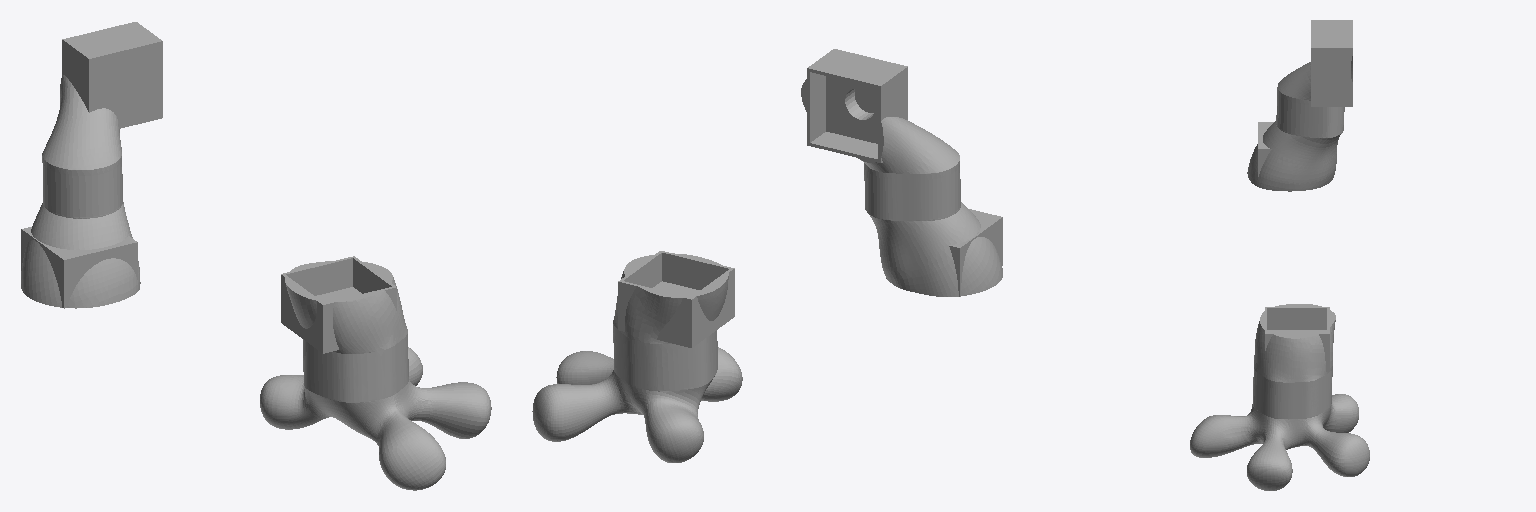
The robot description file, URDF, robot "FrogBot1_top-FrogBot1-x-6_bottom-FrogBot1-x-6":
<?xml version="1.0" ?>
<robot name="FrogBot1_top-FrogBot1-x-6_bottom-FrogBot1-x-6">

<material name="pla_5_percent_infill">
  <color rgba="0.700 0.700 0.700 1.000"/>
</material>

<link name="base_link">
  <inertial>
    <origin xyz="0 0 0" rpy="0 0 0"/>
    <mass value="1.4103143072721238"/>
    <inertia ixx="0.004671865419262029" iyy="0.011029843286332431" izz="0.011972094032648914" ixy="0.00015185420958179445" iyz="8.583160306759328e-05" ixz="-0.001213277085335509"/>
  </inertial>
  <visual>
    <origin xyz="0 0 0" rpy="0 0 0"/>
    <geometry>
      <mesh filename="simple_meshes/base_link.stl" scale="0.001 0.001 0.001"/>
    </geometry>
    <material name="pla_5_percent_infill"/>
  </visual>
  <collision>
    <origin xyz="0 0 0" rpy="0 0 0"/>
    <geometry>
      <mesh filename="simple_meshes/base_link.stl" scale="0.001 0.001 0.001"/>
    </geometry>
  </collision>
</link>

<link name="body_1_0_1">
  <inertial>
    <origin xyz="-0.045735 -0.109621 -0.00462" rpy="0 0 0"/>
    <mass value="0.042742572720428126"/>
    <inertia ixx="4.8710943974901704e-05" iyy="5.044943592992317e-05" izz="1.5113327222513167e-05" ixy="-4.565019534397206e-07" iyz="3.393130632926215e-06" ixz="6.908643124618741e-07"/>
  </inertial>
  <visual>
    <origin xyz="-0.045735 -0.109621 -0.00462" rpy="0 0 0"/>
    <geometry>
      <mesh filename="simple_meshes/body_1_0_1.stl" scale="0.001 0.001 0.001"/>
    </geometry>
    <material name="pla_5_percent_infill"/>
  </visual>
  <collision>
    <origin xyz="-0.045735 -0.109621 -0.00462" rpy="0 0 0"/>
    <geometry>
      <mesh filename="simple_meshes/body_1_0_1.stl" scale="0.001 0.001 0.001"/>
    </geometry>
  </collision>
</link>

<link name="body_1_1_1">
  <inertial>
    <origin xyz="0.086489 -0.109621 -0.018802" rpy="0 0 0"/>
    <mass value="0.07791456159574267"/>
    <inertia ixx="9.462274355153972e-05" iyy="0.0001024098774370433" izz="4.409219128689943e-05" ixy="6.168907758929412e-06" iyz="1.469876848607843e-05" ixz="-2.2209793211704033e-05"/>
  </inertial>
  <visual>
    <origin xyz="0.086489 -0.109621 -0.018802" rpy="0 0 0"/>
    <geometry>
      <mesh filename="simple_meshes/body_1_1_1.stl" scale="0.001 0.001 0.001"/>
    </geometry>
    <material name="pla_5_percent_infill"/>
  </visual>
  <collision>
    <origin xyz="0.086489 -0.109621 -0.018802" rpy="0 0 0"/>
    <geometry>
      <mesh filename="simple_meshes/body_1_1_1.stl" scale="0.001 0.001 0.001"/>
    </geometry>
  </collision>
</link>

<link name="body_1_2_1">
  <inertial>
    <origin xyz="-0.040267 0.109621 -0.027764" rpy="0 0 0"/>
    <mass value="0.054416717684884486"/>
    <inertia ixx="9.263977416357509e-05" iyy="9.103442231563606e-05" izz="2.3599958893622507e-05" ixy="6.474362329348619e-07" iyz="-1.5155757341951589e-05" ixz="-1.843640372962491e-07"/>
  </inertial>
  <visual>
    <origin xyz="-0.040267 0.109621 -0.027764" rpy="0 0 0"/>
    <geometry>
      <mesh filename="simple_meshes/body_1_2_1.stl" scale="0.001 0.001 0.001"/>
    </geometry>
    <material name="pla_5_percent_infill"/>
  </visual>
  <collision>
    <origin xyz="-0.040267 0.109621 -0.027764" rpy="0 0 0"/>
    <geometry>
      <mesh filename="simple_meshes/body_1_2_1.stl" scale="0.001 0.001 0.001"/>
    </geometry>
  </collision>
</link>

<link name="body_1_3_1">
  <inertial>
    <origin xyz="0.090407 0.109621 -0.022193" rpy="0 0 0"/>
    <mass value="0.07768399971822648"/>
    <inertia ixx="0.00010300815941727097" iyy="0.0001127775479198075" izz="4.731999642966283e-05" ixy="-7.562870507290837e-06" iyz="-1.8093607544712026e-05" ixz="-2.678783263964404e-05"/>
  </inertial>
  <visual>
    <origin xyz="0.090407 0.109621 -0.022193" rpy="0 0 0"/>
    <geometry>
      <mesh filename="simple_meshes/body_1_3_1.stl" scale="0.001 0.001 0.001"/>
    </geometry>
    <material name="pla_5_percent_infill"/>
  </visual>
  <collision>
    <origin xyz="0.090407 0.109621 -0.022193" rpy="0 0 0"/>
    <geometry>
      <mesh filename="simple_meshes/body_1_3_1.stl" scale="0.001 0.001 0.001"/>
    </geometry>
  </collision>
</link>

<link name="body_2_0_1">
  <inertial>
    <origin xyz="-0.049562 -0.159797 0.105064" rpy="0 0 0"/>
    <mass value="0.11010024254701548"/>
    <inertia ixx="0.00014064391021919448" iyy="0.00015250270257096462" izz="0.00013727541771518456" ixy="-4.715563001325435e-06" iyz="-1.5036170661016958e-06" ixz="3.380651013575563e-05"/>
  </inertial>
  <visual>
    <origin xyz="-0.049562 -0.159797 0.105064" rpy="0 0 0"/>
    <geometry>
      <mesh filename="simple_meshes/body_2_0_1.stl" scale="0.001 0.001 0.001"/>
    </geometry>
    <material name="pla_5_percent_infill"/>
  </visual>
  <collision>
    <origin xyz="-0.049562 -0.159797 0.105064" rpy="0 0 0"/>
    <geometry>
      <mesh filename="simple_meshes/body_2_0_1.stl" scale="0.001 0.001 0.001"/>
    </geometry>
  </collision>
</link>

<link name="body_2_1_1">
  <inertial>
    <origin xyz="0.121182 -0.173952 0.105064" rpy="0 0 0"/>
    <mass value="0.12022395425541525"/>
    <inertia ixx="0.00014952592563838643" iyy="0.00016059723300055739" izz="0.00014891029064668156" ixy="1.289431637917053e-07" iyz="1.9849039915286956e-05" ixz="4.268614457408719e-05"/>
  </inertial>
  <visual>
    <origin xyz="0.121182 -0.173952 0.105064" rpy="0 0 0"/>
    <geometry>
      <mesh filename="simple_meshes/body_2_1_1.stl" scale="0.001 0.001 0.001"/>
    </geometry>
    <material name="pla_5_percent_infill"/>
  </visual>
  <collision>
    <origin xyz="0.121182 -0.173952 0.105064" rpy="0 0 0"/>
    <geometry>
      <mesh filename="simple_meshes/body_2_1_1.stl" scale="0.001 0.001 0.001"/>
    </geometry>
  </collision>
</link>

<link name="body_2_2_1">
  <inertial>
    <origin xyz="-0.04311 0.170506 0.105064" rpy="0 0 0"/>
    <mass value="0.11443521058306759"/>
    <inertia ixx="0.00015098591705875897" iyy="0.00014414775323390566" izz="0.0001415923545011969" ixy="1.207204939084397e-06" iyz="-8.086108890358566e-06" ixz="2.4437110452910906e-05"/>
  </inertial>
  <visual>
    <origin xyz="-0.04311 0.170506 0.105064" rpy="0 0 0"/>
    <geometry>
      <mesh filename="simple_meshes/body_2_2_1.stl" scale="0.001 0.001 0.001"/>
    </geometry>
    <material name="pla_5_percent_infill"/>
  </visual>
  <collision>
    <origin xyz="-0.04311 0.170506 0.105064" rpy="0 0 0"/>
    <geometry>
      <mesh filename="simple_meshes/body_2_2_1.stl" scale="0.001 0.001 0.001"/>
    </geometry>
  </collision>
</link>

<link name="body_2_3_1">
  <inertial>
    <origin xyz="0.129712 0.175384 0.105064" rpy="0 0 0"/>
    <mass value="0.1167874152074106"/>
    <inertia ixx="0.0001576077723947078" iyy="0.00015450436359291247" izz="0.00013660338909442932" ixy="6.289753455720592e-06" iyz="-2.5856747654466432e-05" ixz="4.078949079696324e-05"/>
  </inertial>
  <visual>
    <origin xyz="0.129712 0.175384 0.105064" rpy="0 0 0"/>
    <geometry>
      <mesh filename="simple_meshes/body_2_3_1.stl" scale="0.001 0.001 0.001"/>
    </geometry>
    <material name="pla_5_percent_infill"/>
  </visual>
  <collision>
    <origin xyz="0.129712 0.175384 0.105064" rpy="0 0 0"/>
    <geometry>
      <mesh filename="simple_meshes/body_2_3_1.stl" scale="0.001 0.001 0.001"/>
    </geometry>
  </collision>
</link>

<joint name="joint_1_0" type="revolute">
  <origin xyz="0.045735 0.109621 0.00462" rpy="0 0 0"/>
  <parent link="base_link"/>
  <child link="body_1_0_1"/>
  <axis xyz="1.0 0.0 0.0"/>
  <limit upper="1.2" lower="-1.2" effort="3.8" velocity="5.4"/>
</joint>
<transmission name="joint_1_0_tran">
  <type>transmission_interface/SimpleTransmission</type>
  <joint name="joint_1_0">
    <hardwareInterface>PositionJointInterface</hardwareInterface>
  </joint>
  <actuator name="joint_1_0_actr">
    <hardwareInterface>PositionJointInterface</hardwareInterface>
    <mechanicalReduction>1</mechanicalReduction>
  </actuator>
</transmission>

<joint name="joint_1_1" type="revolute">
  <origin xyz="-0.086489 0.109621 0.018802" rpy="0 0 0"/>
  <parent link="base_link"/>
  <child link="body_1_1_1"/>
  <axis xyz="1.0 0.0 0.0"/>
  <limit upper="1.2" lower="-1.2" effort="3.8" velocity="5.4"/>
</joint>
<transmission name="joint_1_1_tran">
  <type>transmission_interface/SimpleTransmission</type>
  <joint name="joint_1_1">
    <hardwareInterface>PositionJointInterface</hardwareInterface>
  </joint>
  <actuator name="joint_1_1_actr">
    <hardwareInterface>PositionJointInterface</hardwareInterface>
    <mechanicalReduction>1</mechanicalReduction>
  </actuator>
</transmission>

<joint name="joint_1_2" type="revolute">
  <origin xyz="0.040267 -0.109621 0.027764" rpy="0 0 0"/>
  <parent link="base_link"/>
  <child link="body_1_2_1"/>
  <axis xyz="1.0 0.0 0.0"/>
  <limit upper="1.2" lower="-1.2" effort="3.8" velocity="5.4"/>
</joint>
<transmission name="joint_1_2_tran">
  <type>transmission_interface/SimpleTransmission</type>
  <joint name="joint_1_2">
    <hardwareInterface>PositionJointInterface</hardwareInterface>
  </joint>
  <actuator name="joint_1_2_actr">
    <hardwareInterface>PositionJointInterface</hardwareInterface>
    <mechanicalReduction>1</mechanicalReduction>
  </actuator>
</transmission>

<joint name="joint_1_3" type="revolute">
  <origin xyz="-0.090407 -0.109621 0.022193" rpy="0 0 0"/>
  <parent link="base_link"/>
  <child link="body_1_3_1"/>
  <axis xyz="1.0 0.0 0.0"/>
  <limit upper="1.2" lower="-1.2" effort="3.8" velocity="5.4"/>
</joint>
<transmission name="joint_1_3_tran">
  <type>transmission_interface/SimpleTransmission</type>
  <joint name="joint_1_3">
    <hardwareInterface>PositionJointInterface</hardwareInterface>
  </joint>
  <actuator name="joint_1_3_actr">
    <hardwareInterface>PositionJointInterface</hardwareInterface>
    <mechanicalReduction>1</mechanicalReduction>
  </actuator>
</transmission>

<joint name="joint_2_0" type="revolute">
  <origin xyz="0.003827 0.050176 -0.109684" rpy="0 0 0"/>
  <parent link="body_1_0_1"/>
  <child link="body_2_0_1"/>
  <axis xyz="1.0 0.0 0.0"/>
  <limit upper="1.2" lower="-1.2" effort="3.8" velocity="5.4"/>
</joint>
<transmission name="joint_2_0_tran">
  <type>transmission_interface/SimpleTransmission</type>
  <joint name="joint_2_0">
    <hardwareInterface>PositionJointInterface</hardwareInterface>
  </joint>
  <actuator name="joint_2_0_actr">
    <hardwareInterface>PositionJointInterface</hardwareInterface>
    <mechanicalReduction>1</mechanicalReduction>
  </actuator>
</transmission>

<joint name="joint_2_1" type="revolute">
  <origin xyz="-0.034693 0.064331 -0.123866" rpy="0 0 0"/>
  <parent link="body_1_1_1"/>
  <child link="body_2_1_1"/>
  <axis xyz="1.0 0.0 0.0"/>
  <limit upper="1.2" lower="-1.2" effort="3.8" velocity="5.4"/>
</joint>
<transmission name="joint_2_1_tran">
  <type>transmission_interface/SimpleTransmission</type>
  <joint name="joint_2_1">
    <hardwareInterface>PositionJointInterface</hardwareInterface>
  </joint>
  <actuator name="joint_2_1_actr">
    <hardwareInterface>PositionJointInterface</hardwareInterface>
    <mechanicalReduction>1</mechanicalReduction>
  </actuator>
</transmission>

<joint name="joint_2_2" type="revolute">
  <origin xyz="0.002843 -0.060885 -0.132828" rpy="0 0 0"/>
  <parent link="body_1_2_1"/>
  <child link="body_2_2_1"/>
  <axis xyz="1.0 0.0 0.0"/>
  <limit upper="1.2" lower="-1.2" effort="3.8" velocity="5.4"/>
</joint>
<transmission name="joint_2_2_tran">
  <type>transmission_interface/SimpleTransmission</type>
  <joint name="joint_2_2">
    <hardwareInterface>PositionJointInterface</hardwareInterface>
  </joint>
  <actuator name="joint_2_2_actr">
    <hardwareInterface>PositionJointInterface</hardwareInterface>
    <mechanicalReduction>1</mechanicalReduction>
  </actuator>
</transmission>

<joint name="joint_2_3" type="revolute">
  <origin xyz="-0.039305 -0.065763 -0.127257" rpy="0 0 0"/>
  <parent link="body_1_3_1"/>
  <child link="body_2_3_1"/>
  <axis xyz="1.0 0.0 0.0"/>
  <limit upper="1.2" lower="-1.2" effort="3.8" velocity="5.4"/>
</joint>
<transmission name="joint_2_3_tran">
  <type>transmission_interface/SimpleTransmission</type>
  <joint name="joint_2_3">
    <hardwareInterface>PositionJointInterface</hardwareInterface>
  </joint>
  <actuator name="joint_2_3_actr">
    <hardwareInterface>PositionJointInterface</hardwareInterface>
    <mechanicalReduction>1</mechanicalReduction>
  </actuator>
</transmission>

</robot>

--- Facts derived from the render (not from the file) ---
The picture shows the robot from 3 angles, left to right: view 1: azimuth 30°, elevation 25°; view 2: azimuth 150°, elevation 25°; view 3: azimuth 270°, elevation 25°; orthographic projection.
Model FrogBot1_top-FrogBot1-x-6_bottom-FrogBot1-x-6 with 9 links and 8 joints (8 revolute), rooted at base_link, posed all joints at 0.
Visible links, largest first — view 1: body_2_2_1, body_1_3_1; view 2: body_1_3_1, body_2_2_1; view 3: body_2_2_1, body_1_3_1.
Boxes of the visible links, bbox=[...] form: body_2_2_1: bbox=[260, 256, 491, 490]; body_1_3_1: bbox=[21, 22, 162, 308]; body_1_3_1: bbox=[801, 49, 1002, 296]; body_2_2_1: bbox=[532, 251, 742, 462]; body_2_2_1: bbox=[1190, 304, 1369, 490]; body_1_3_1: bbox=[1247, 20, 1352, 191].
Size in the robot's own frame: 0.2923 by 0.1335 by 0.2776 metres.
2 mesh visuals loaded from 9 distinct referenced files (2 binary STL); not drawn: 7 (reference not matched to a file when rendering).